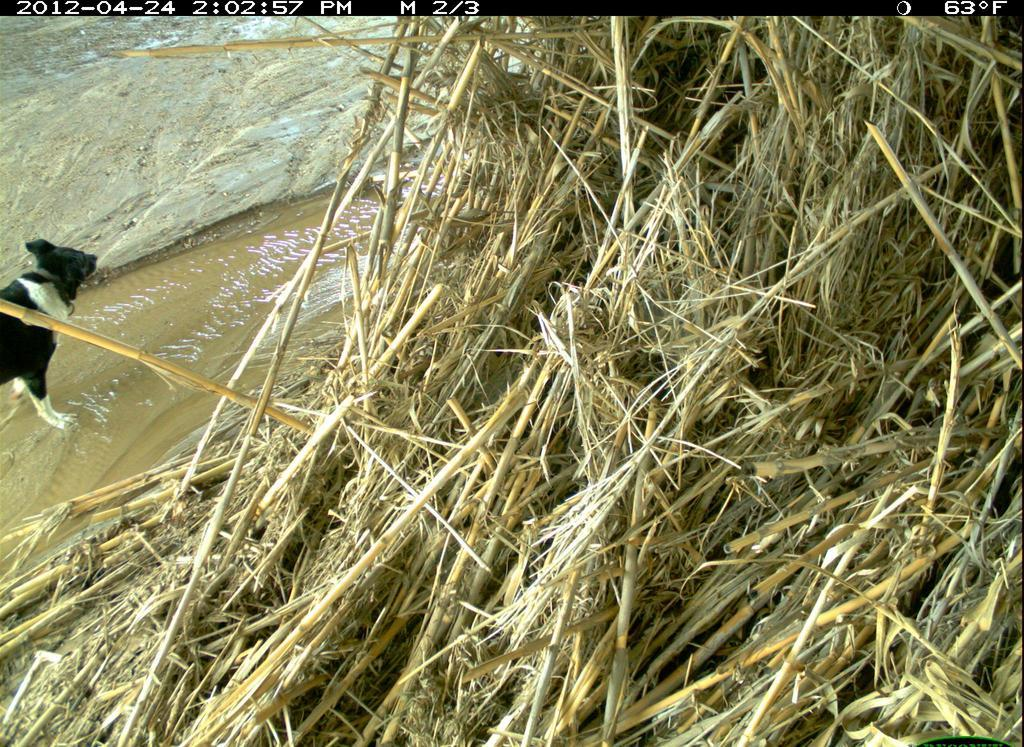dog: (6, 228, 111, 446)
